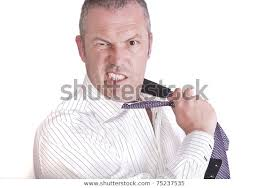white_male: (90, 14, 149, 91)
